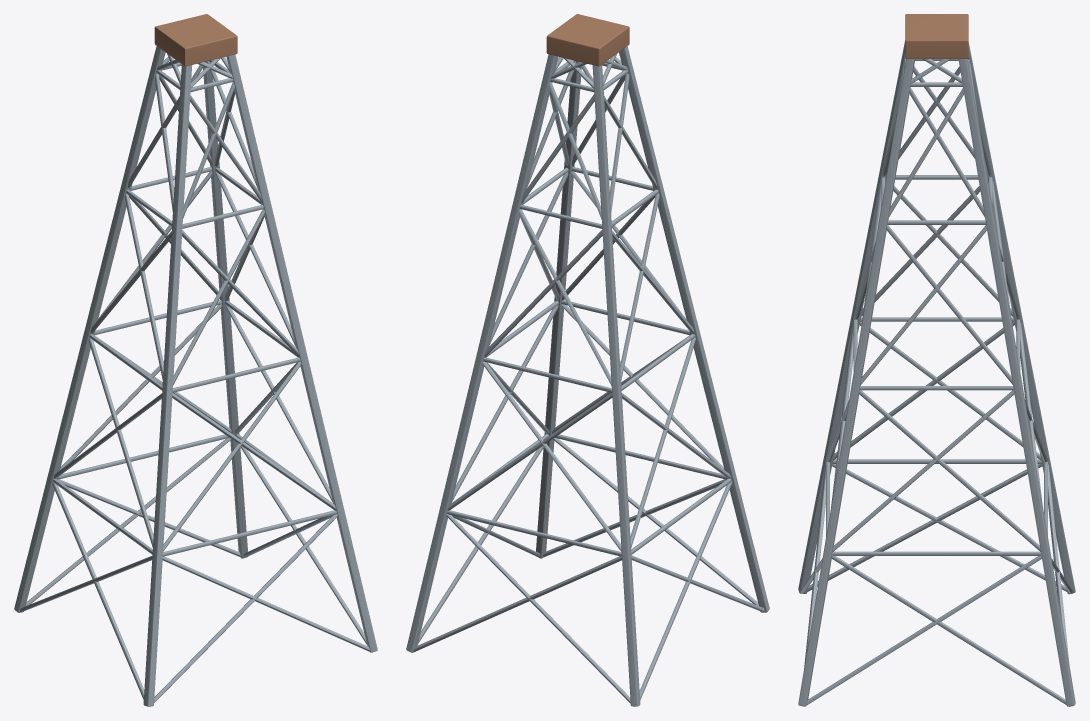
Rendered from oil_derrick.glb.
3 renders of one model, left to right at view 1: azimuth 30°, elevation 25°; view 2: azimuth 150°, elevation 25°; view 3: azimuth 270°, elevation 25°, orthographic. The views are drawn at different scales.
Visible parts, largest first — view 1: oil_derrick; view 2: oil_derrick; view 3: oil_derrick.
Part boxes in pixels (box(x1,y1,x2,y2)): oil_derrick: box(14, 14, 377, 706); oil_derrick: box(406, 14, 769, 706); oil_derrick: box(798, 14, 1075, 706).
Bounding box in the file's own units: 3.92 × 9.72 × 3.92.
